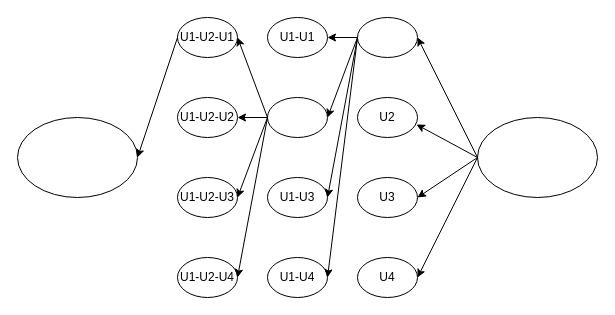
The diagram is 615 pixels wide and 315 high, and some of its shapes have lost their labels. Each missing label, with the centre of its shape:
Mixed Cube: (x=77, y=157)
Solved Cube: (x=537, y=157)
U1: (x=387, y=37)
U1-U2: (x=297, y=117)
